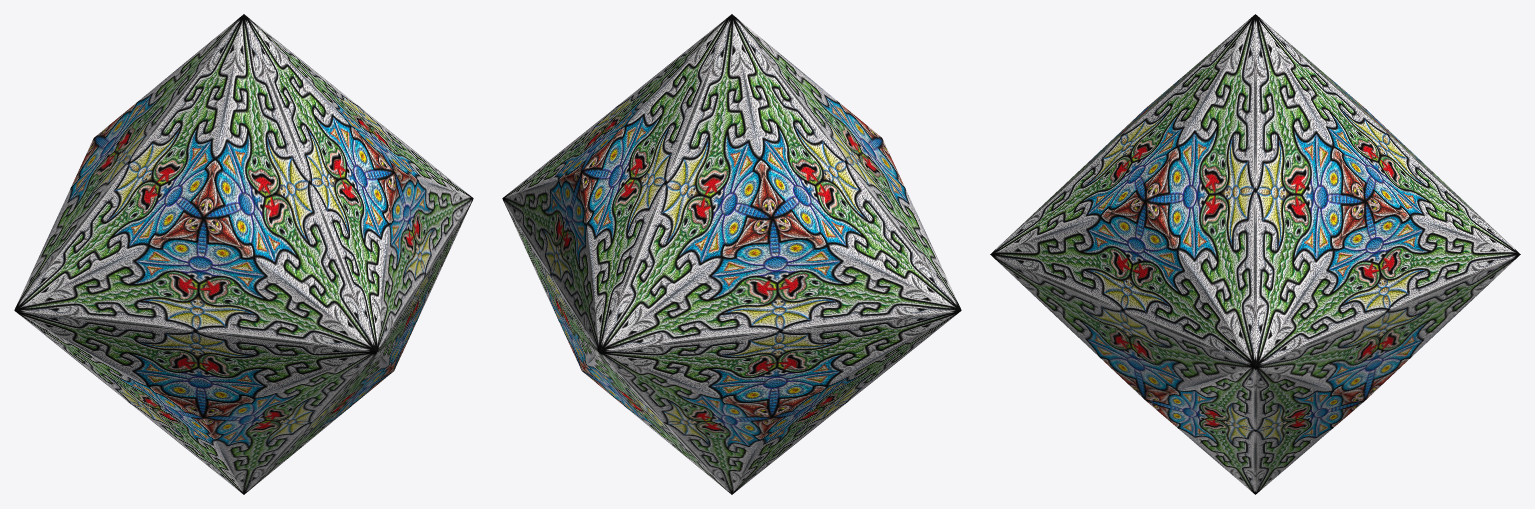
The model's file is TriakisOctahedron5.obj.
The picture shows the model from 3 angles, left to right: view 1: azimuth 30°, elevation 25°; view 2: azimuth 150°, elevation 25°; view 3: azimuth 270°, elevation 25°; orthographic projection.
Bounding box in the file's own units: 4.83 × 4.83 × 4.83.
Materials: 1 (1 with a texture image).
